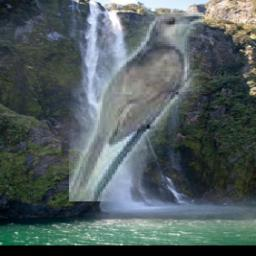Cuckoo: (70, 13, 205, 202)
